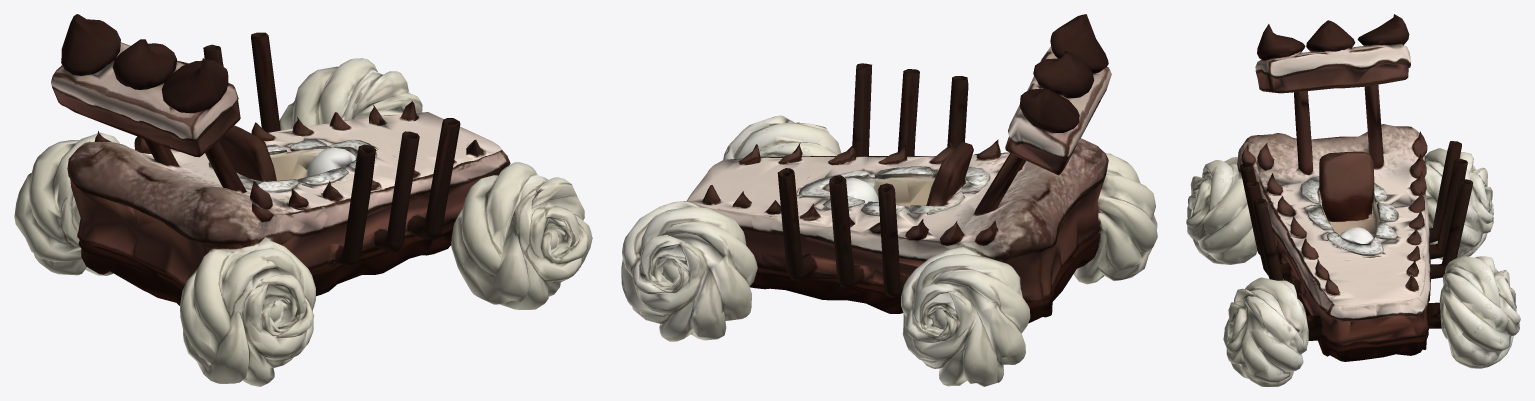
File: dessert-taart.glb
3 views of the same model, side by side, from view 1: azimuth 30°, elevation 25°; view 2: azimuth 150°, elevation 25°; view 3: azimuth 270°, elevation 25° (orthographic). The views are drawn at different scales.
Visible parts, largest first — view 1: tripo_node_c73b0bc9-392c-4bd2-915a-7fd0b2f68635, Roue_2_maillage, Roue_0_maillage, Roue_1_maillage, Roue_3_maillage; view 2: tripo_node_c73b0bc9-392c-4bd2-915a-7fd0b2f68635, Roue_3_maillage, Roue_1_maillage, Roue_2_maillage, Roue_0_maillage; view 3: tripo_node_c73b0bc9-392c-4bd2-915a-7fd0b2f68635, Roue_2_maillage, Roue_3_maillage, Roue_1_maillage, Roue_0_maillage.
Part boxes in pixels (bbox=[...]): tripo_node_c73b0bc9-392c-4bd2-915a-7fd0b2f68635: bbox=[14, 14, 510, 378]; Roue_2_maillage: bbox=[451, 162, 592, 309]; Roue_0_maillage: bbox=[183, 268, 313, 386]; Roue_1_maillage: bbox=[47, 198, 113, 275]; Roue_3_maillage: bbox=[336, 58, 422, 112]; tripo_node_c73b0bc9-392c-4bd2-915a-7fd0b2f68635: bbox=[635, 14, 1155, 386]; Roue_3_maillage: bbox=[621, 201, 701, 340]; Roue_1_maillage: bbox=[902, 279, 1022, 386]; Roue_2_maillage: bbox=[723, 115, 841, 159]; Roue_0_maillage: bbox=[1074, 174, 1157, 284]; tripo_node_c73b0bc9-392c-4bd2-915a-7fd0b2f68635: bbox=[1194, 14, 1520, 386]; Roue_2_maillage: bbox=[1223, 277, 1303, 386]; Roue_3_maillage: bbox=[1447, 262, 1520, 368]; Roue_1_maillage: bbox=[1428, 167, 1492, 259]; Roue_0_maillage: bbox=[1186, 169, 1219, 262].
Size of the model in its own units: 2.2 by 1.51 by 1.9.
1 material, 1 textured.
